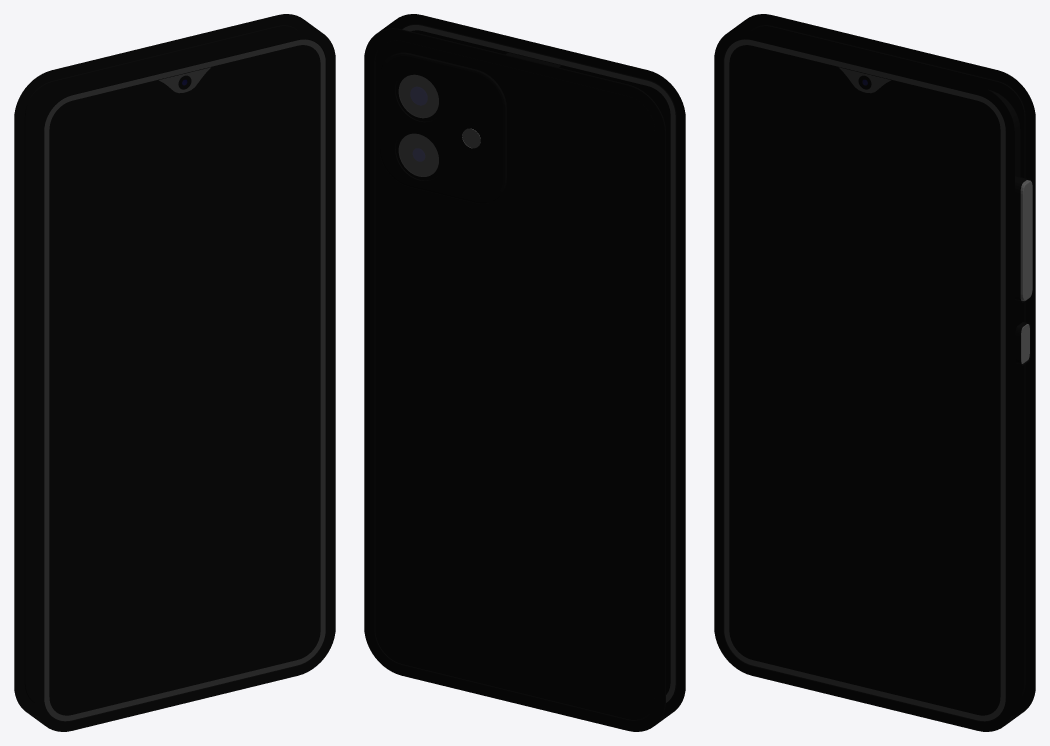
Rendered from 3d-phone-update.glb.
The picture shows the model from 3 angles, left to right: view 1: azimuth 30°, elevation 25°; view 2: azimuth 150°, elevation 25°; view 3: azimuth 330°, elevation 25°; orthographic projection.
Parts seen in each view (by area): view 1: Screen, Frame, HourPlane, Body; view 2: Body, Frame, Cube, Screen, Camera2, Camera1; view 3: Screen, Frame, HourPlane, Body, VolumeButton, Cube.
Boxes of the visible parts, box(x1,y1,x2,y2) form: Screen: box(49, 45, 320, 715); Frame: box(14, 14, 335, 731); HourPlane: box(80, 138, 287, 306); Body: box(14, 14, 335, 731); Body: box(364, 14, 685, 731); Frame: box(364, 14, 685, 731); Cube: box(379, 52, 506, 203); Screen: box(411, 30, 670, 694); Camera2: box(395, 132, 438, 180); Camera1: box(395, 75, 438, 122); Screen: box(729, 45, 1000, 715); Frame: box(714, 14, 1035, 731); HourPlane: box(760, 138, 966, 306); Body: box(714, 14, 1035, 731); VolumeButton: box(1020, 180, 1032, 300); Cube: box(988, 89, 1020, 176).
Bounding box in the file's own units: 2.07 × 4.21 × 0.2661.
Materials: 11 (2 with a texture image).
